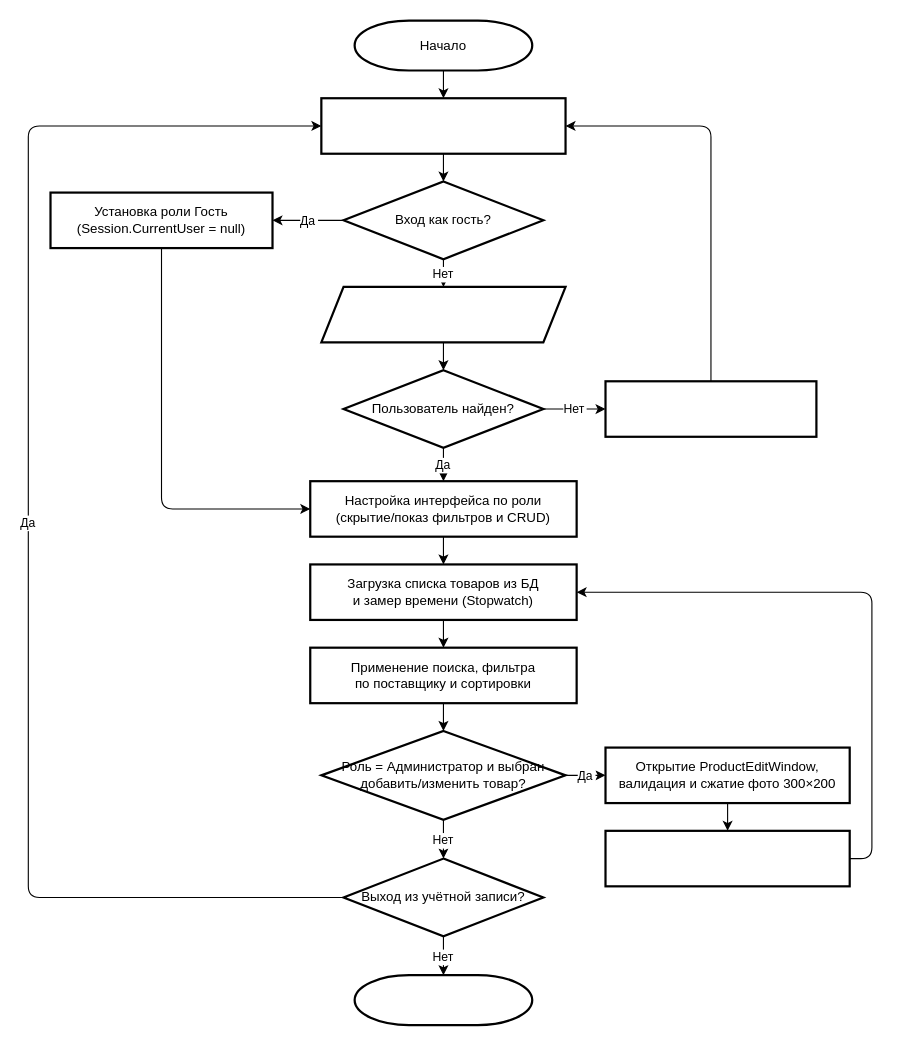
Image size: 900x1045. Some labels were removed from this diagram. Here are the shapes that lost their labels. From the top down, the centre of each, then its label:
pixel 443 125: Отображение окна авторизации (LoginWindow)
pixel 443 314: Ввод логина и пароля, запрос к БД (app_user)
pixel 710 408: Вывод сообщения об ошибке авторизации
pixel 727 858: Выполнение INSERT / UPDATE / DELETE (с проверкой order_item)
pixel 443 999: Конец
